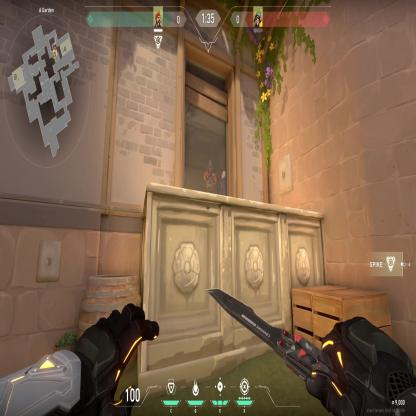enemy: (202, 158, 217, 197)
